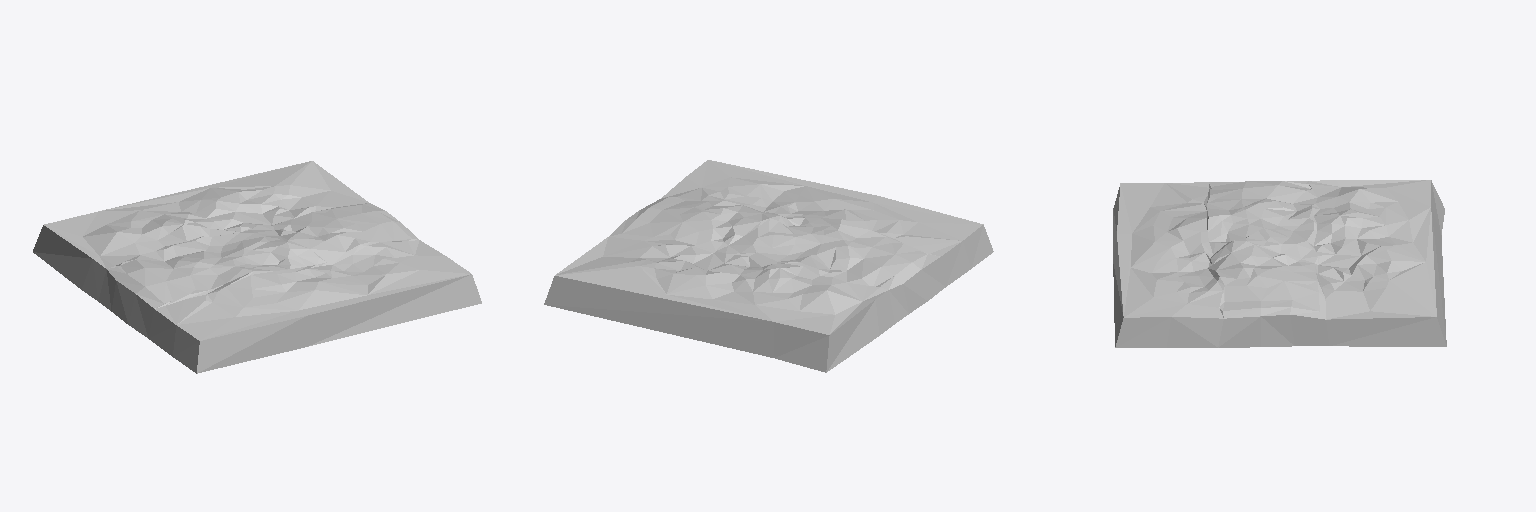
Rendered from Meadow_WithPath_1.obj.
The picture shows the model from 3 angles: view 1: azimuth 30°, elevation 25°; view 2: azimuth 150°, elevation 25°; view 3: azimuth 270°, elevation 25°; orthographic projection.
Visible parts, largest first — view 1: PP_Meadow_Path_05.002; view 2: PP_Meadow_Path_05.002; view 3: PP_Meadow_Path_05.002.
Boxes of the visible parts, <box> form: PP_Meadow_Path_05.002: <box>33,161,481,373</box>; PP_Meadow_Path_05.002: <box>544,160,993,372</box>; PP_Meadow_Path_05.002: <box>1113,180,1446,347</box>.
Size of the model in its own units: 22.75 by 3.33 by 22.85.